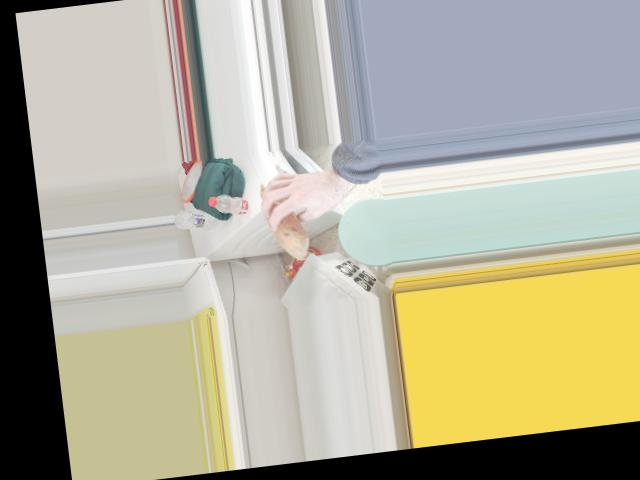sweet_potato: (259, 177, 303, 257)
